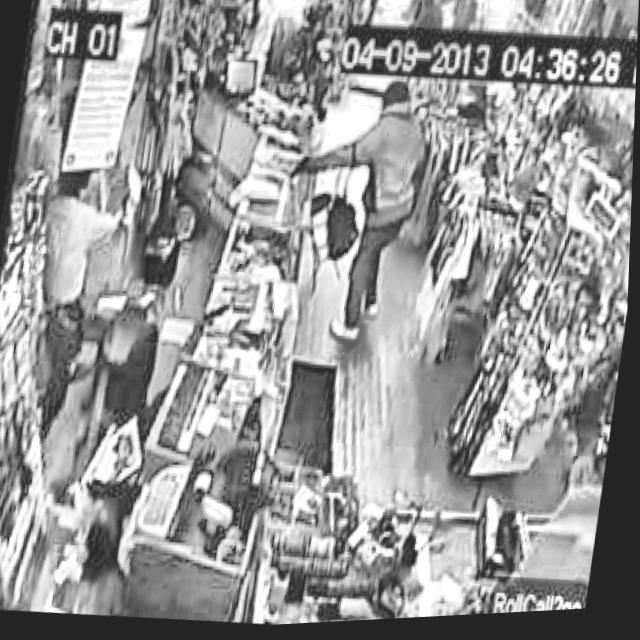robbery: (264, 74, 436, 354)
